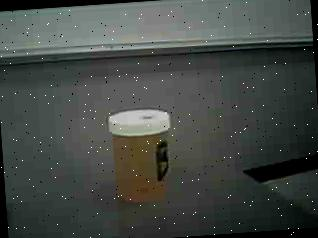Bottle B: (96, 92, 188, 215)
